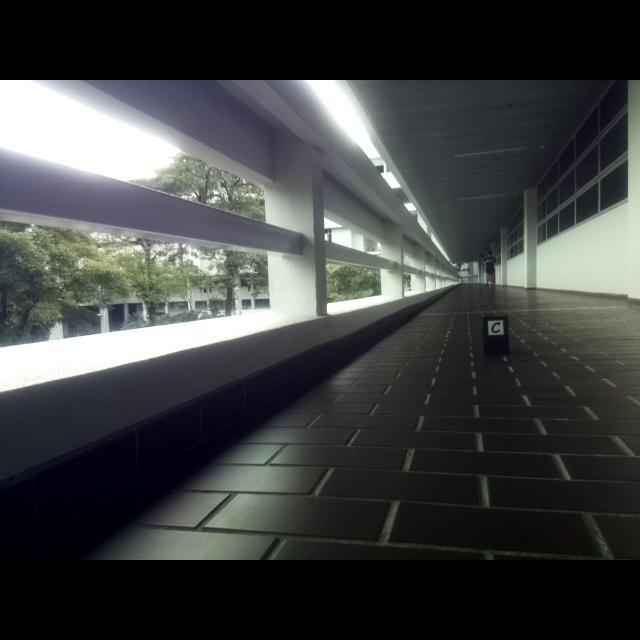C: (491, 321, 501, 334)
